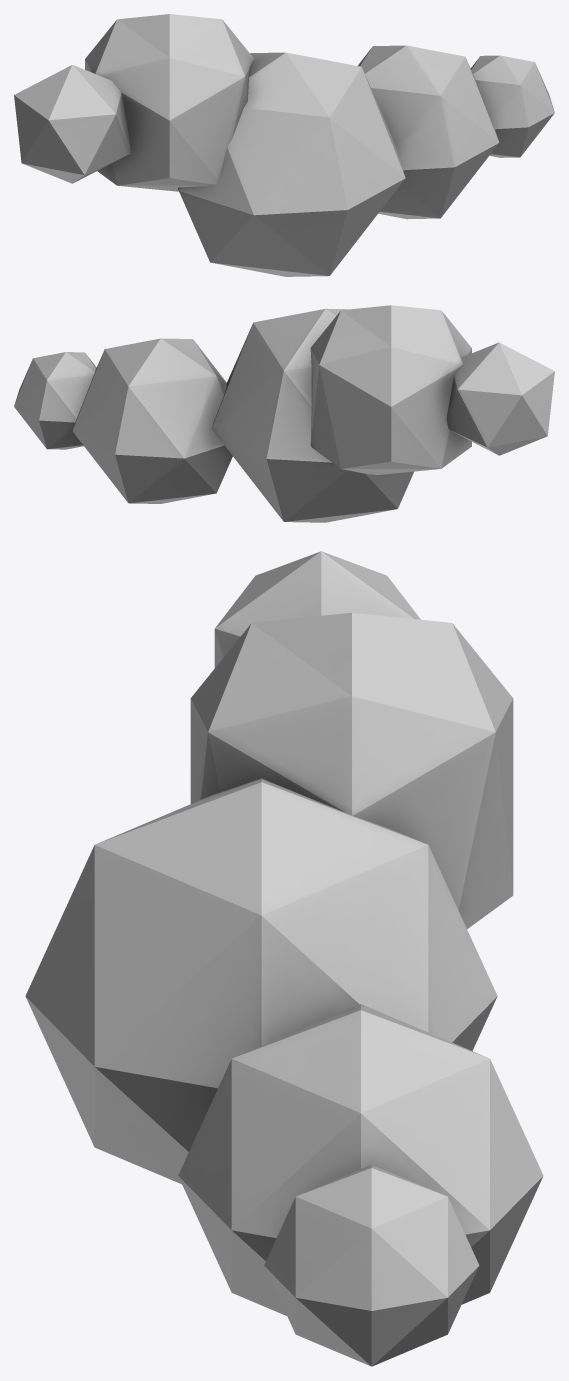
The model's file is Cloud_15.fbx.
3 renders of one model, top to bottom at view 1: azimuth 30°, elevation 25°; view 2: azimuth 150°, elevation 25°; view 3: azimuth 270°, elevation 25°, orthographic. The views are drawn at different scales.
Visible parts, largest first — view 1: Cloud_15; view 2: Cloud_15; view 3: Cloud_15.
Boxes of the visible parts, left/top/right/bottom form: Cloud_15: left=14, top=14, right=554, bottom=276; Cloud_15: left=14, top=305, right=554, bottom=522; Cloud_15: left=25, top=551, right=543, bottom=1366.
Bounding box in the file's own units: 98.94 × 43.04 × 46.86.
1 material, 1 textured.
